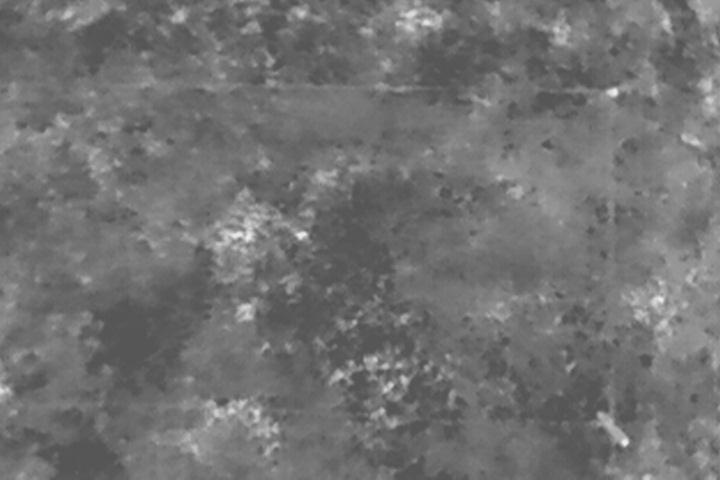landmine: (229, 227, 251, 246)
